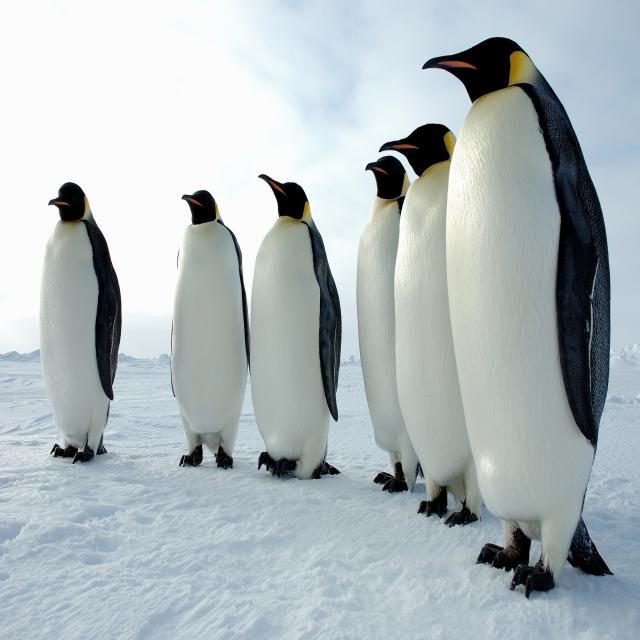Penguins: (445, 32, 616, 596), (389, 94, 478, 530), (248, 167, 344, 478), (157, 175, 248, 476), (39, 174, 125, 470), (352, 151, 422, 499)
